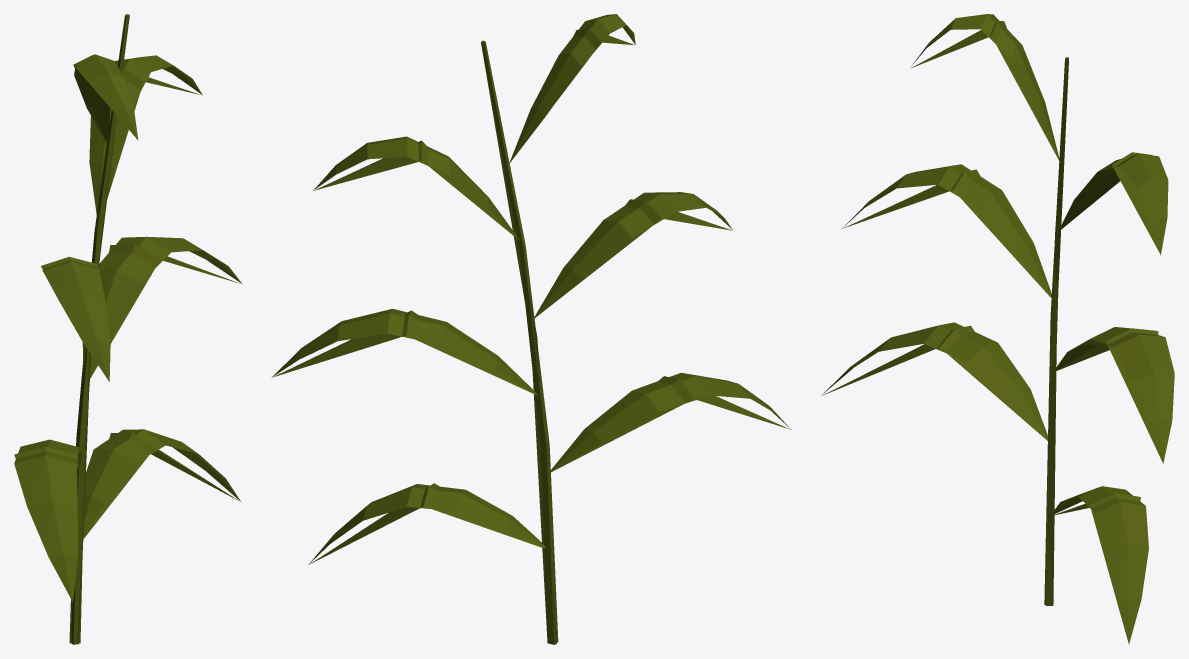
File: crop_03.dae
3 renders of one model, left to right at view 1: azimuth 30°, elevation 25°; view 2: azimuth 150°, elevation 25°; view 3: azimuth 270°, elevation 25°, orthographic. The views are drawn at different scales.
Visible parts, largest first — view 1: plant64, plant8; view 2: plant64, plant8; view 3: plant64, plant8.
Boxes of the visible parts, bbox=[...] form: plant64: bbox=[14, 14, 241, 644]; plant8: bbox=[14, 14, 239, 644]; plant64: bbox=[272, 14, 791, 644]; plant8: bbox=[272, 28, 790, 644]; plant64: bbox=[822, 14, 1174, 643]; plant8: bbox=[822, 21, 1161, 628].
Size of the model in its own units: 1.07 by 0.9783 by 1.78.
